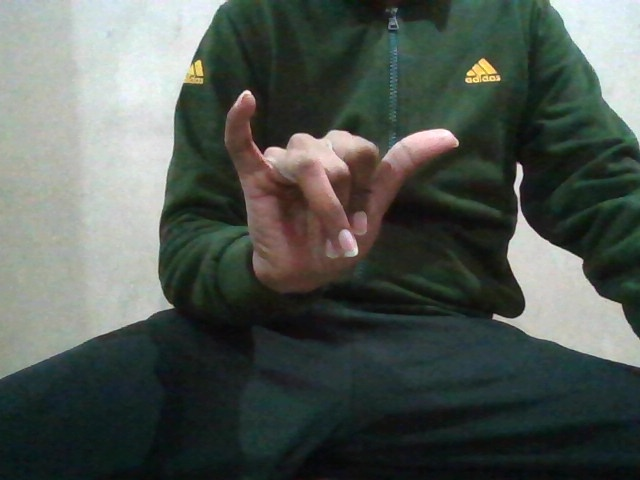Y: (225, 86, 461, 289)
